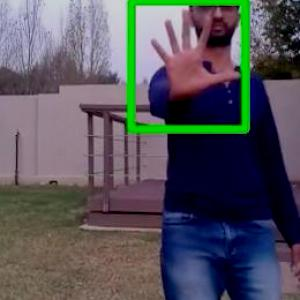follow_hand: (145, 1, 248, 110)
